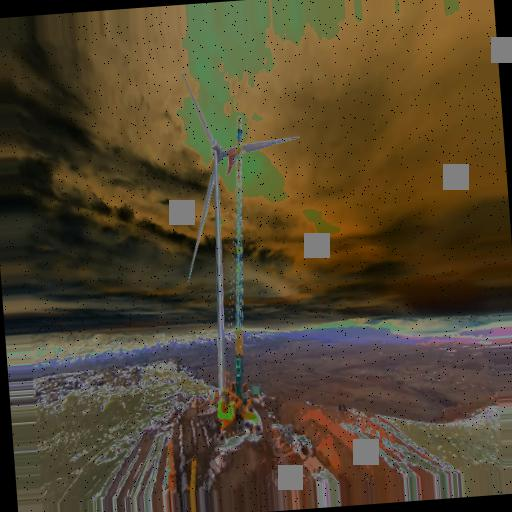wind turbine: (180, 72, 301, 407)
